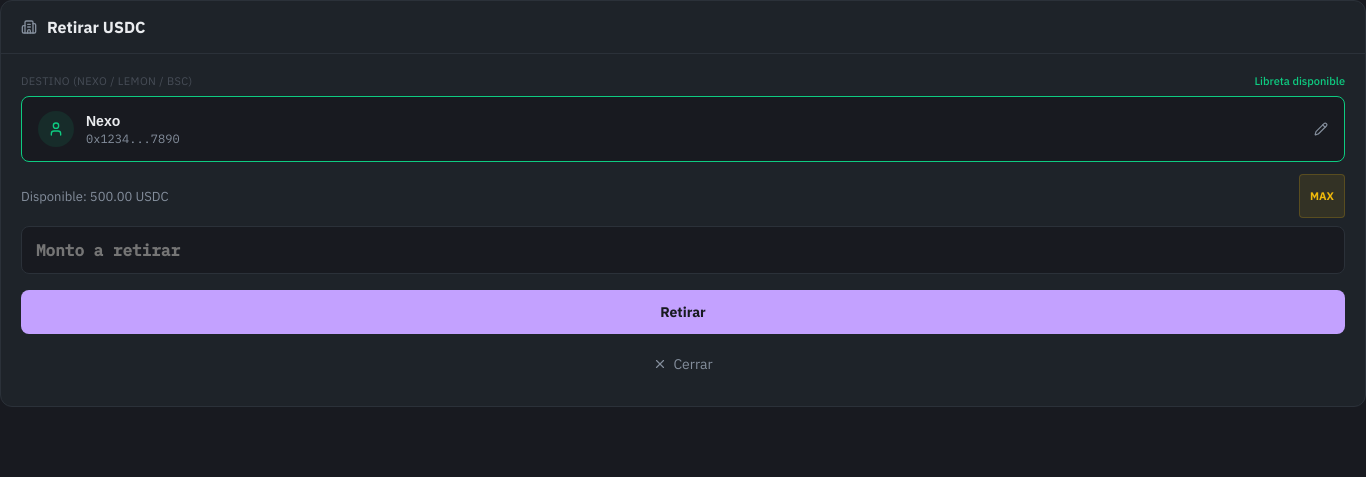
Scenario: Withdraw Component › handleWithdraw — validaciones › amount > balance: muestra error de saldo insuficiente
Type "9999" into the number field with placeholder "Monto a retirar" at (683, 250), box top-left (21, 226), bottom-right (1345, 274)
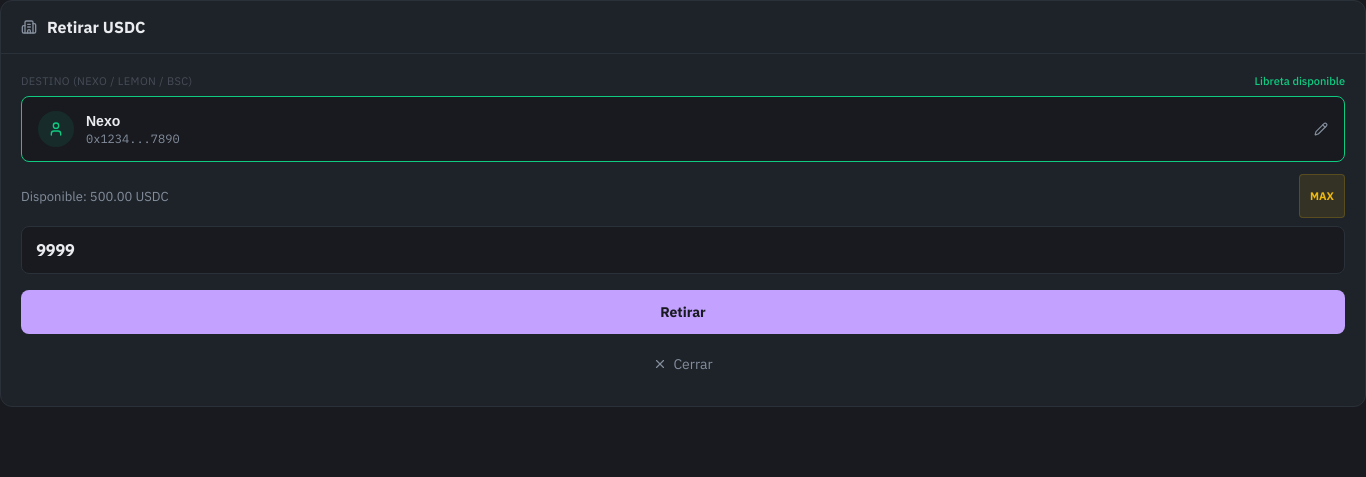
Click the button "Retirar" at (683, 312), box top-left (21, 290), bottom-right (1345, 334)
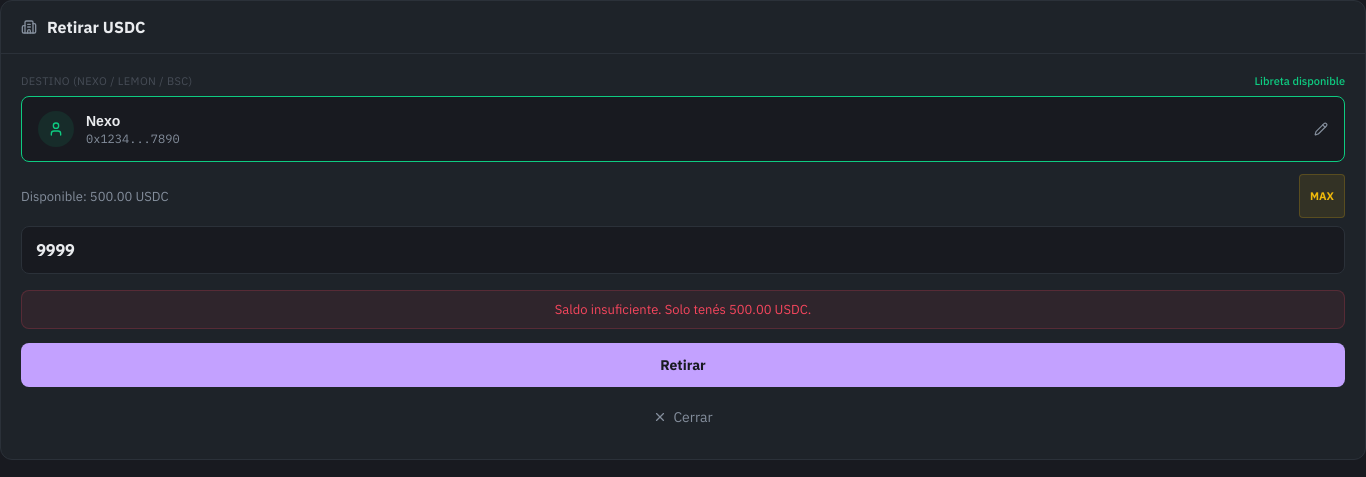
Expected: the text "Saldo insuficiente. Solo tenés 500.00 USDC." is shown, top-left (21, 290), bottom-right (1345, 329)
